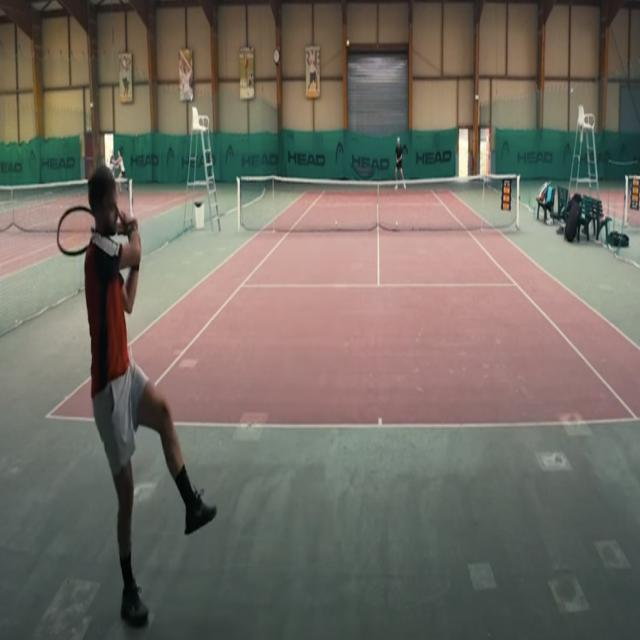ball: (335, 221, 338, 226), (396, 221, 398, 227)
